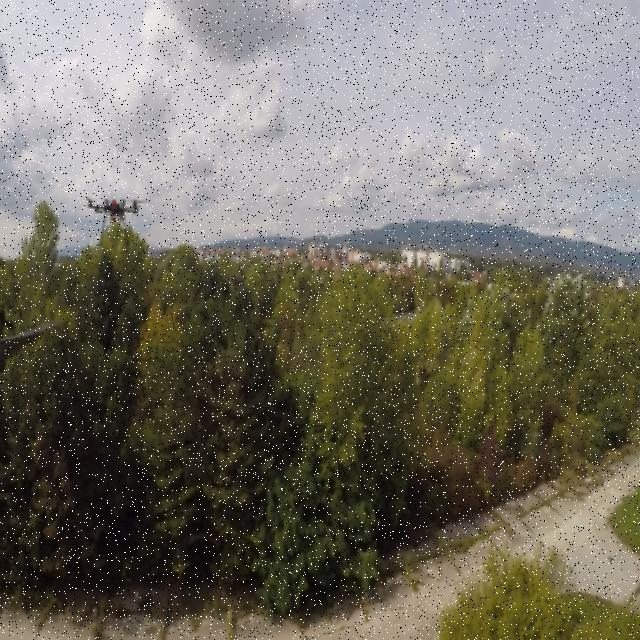UAV: (82, 192, 152, 253)
